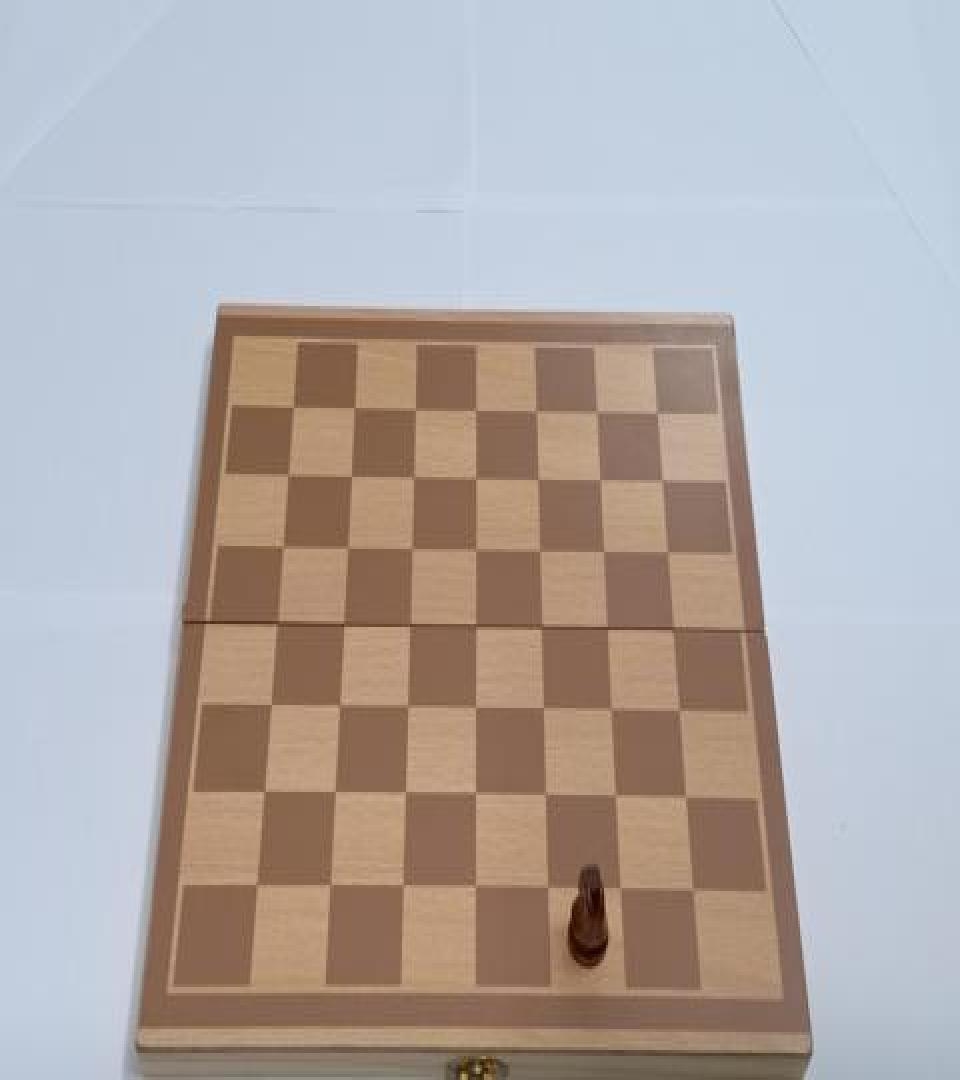xcorner: (592, 466, 612, 497), (588, 397, 608, 428), (679, 788, 699, 818), (672, 700, 692, 730), (666, 618, 686, 648), (654, 468, 674, 498), (649, 399, 669, 429), (613, 879, 633, 909), (608, 786, 628, 816), (604, 699, 624, 729), (595, 540, 615, 570), (533, 615, 553, 645), (531, 538, 551, 568), (529, 465, 549, 495), (527, 396, 547, 426), (466, 876, 486, 906), (466, 783, 486, 813), (466, 696, 486, 726), (466, 614, 486, 644), (466, 537, 486, 567), (466, 464, 486, 494), (466, 394, 486, 424), (393, 874, 413, 904), (395, 782, 415, 812), (397, 694, 417, 724), (399, 612, 419, 642), (403, 462, 423, 492), (404, 393, 424, 423), (319, 873, 339, 903), (324, 780, 344, 810), (328, 693, 348, 723), (336, 532, 356, 562), (340, 460, 360, 490), (343, 392, 363, 422), (259, 692, 279, 722), (265, 609, 285, 639), (271, 531, 291, 561), (277, 459, 297, 489), (282, 390, 302, 420), (687, 881, 707, 910), (660, 542, 680, 571), (600, 617, 620, 646), (540, 878, 560, 907), (537, 785, 557, 814), (535, 698, 555, 727), (401, 536, 421, 565), (332, 611, 352, 640), (246, 872, 266, 901), (253, 779, 273, 808)
